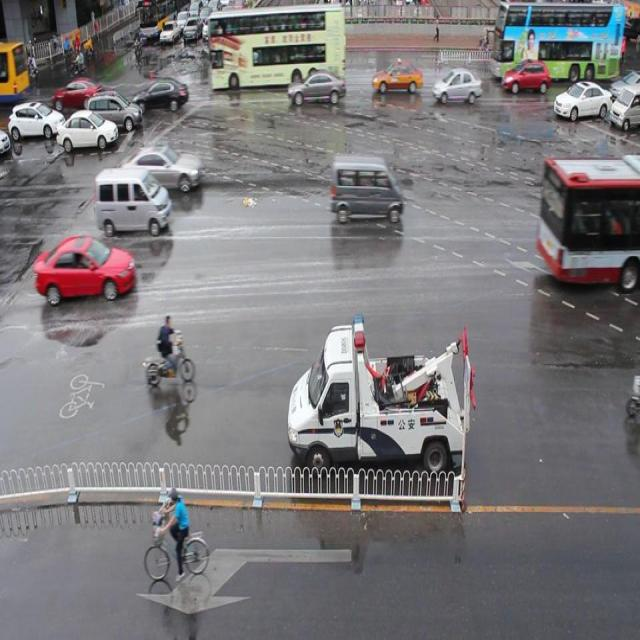car: (36, 238, 138, 299), (124, 144, 201, 194), (552, 80, 611, 125), (287, 68, 347, 106), (131, 77, 190, 114), (501, 60, 551, 100), (371, 59, 421, 92), (434, 67, 481, 101)
truck: (328, 153, 402, 226), (96, 168, 170, 235)
van: (538, 155, 640, 282), (207, 10, 346, 86), (491, 1, 622, 80)
